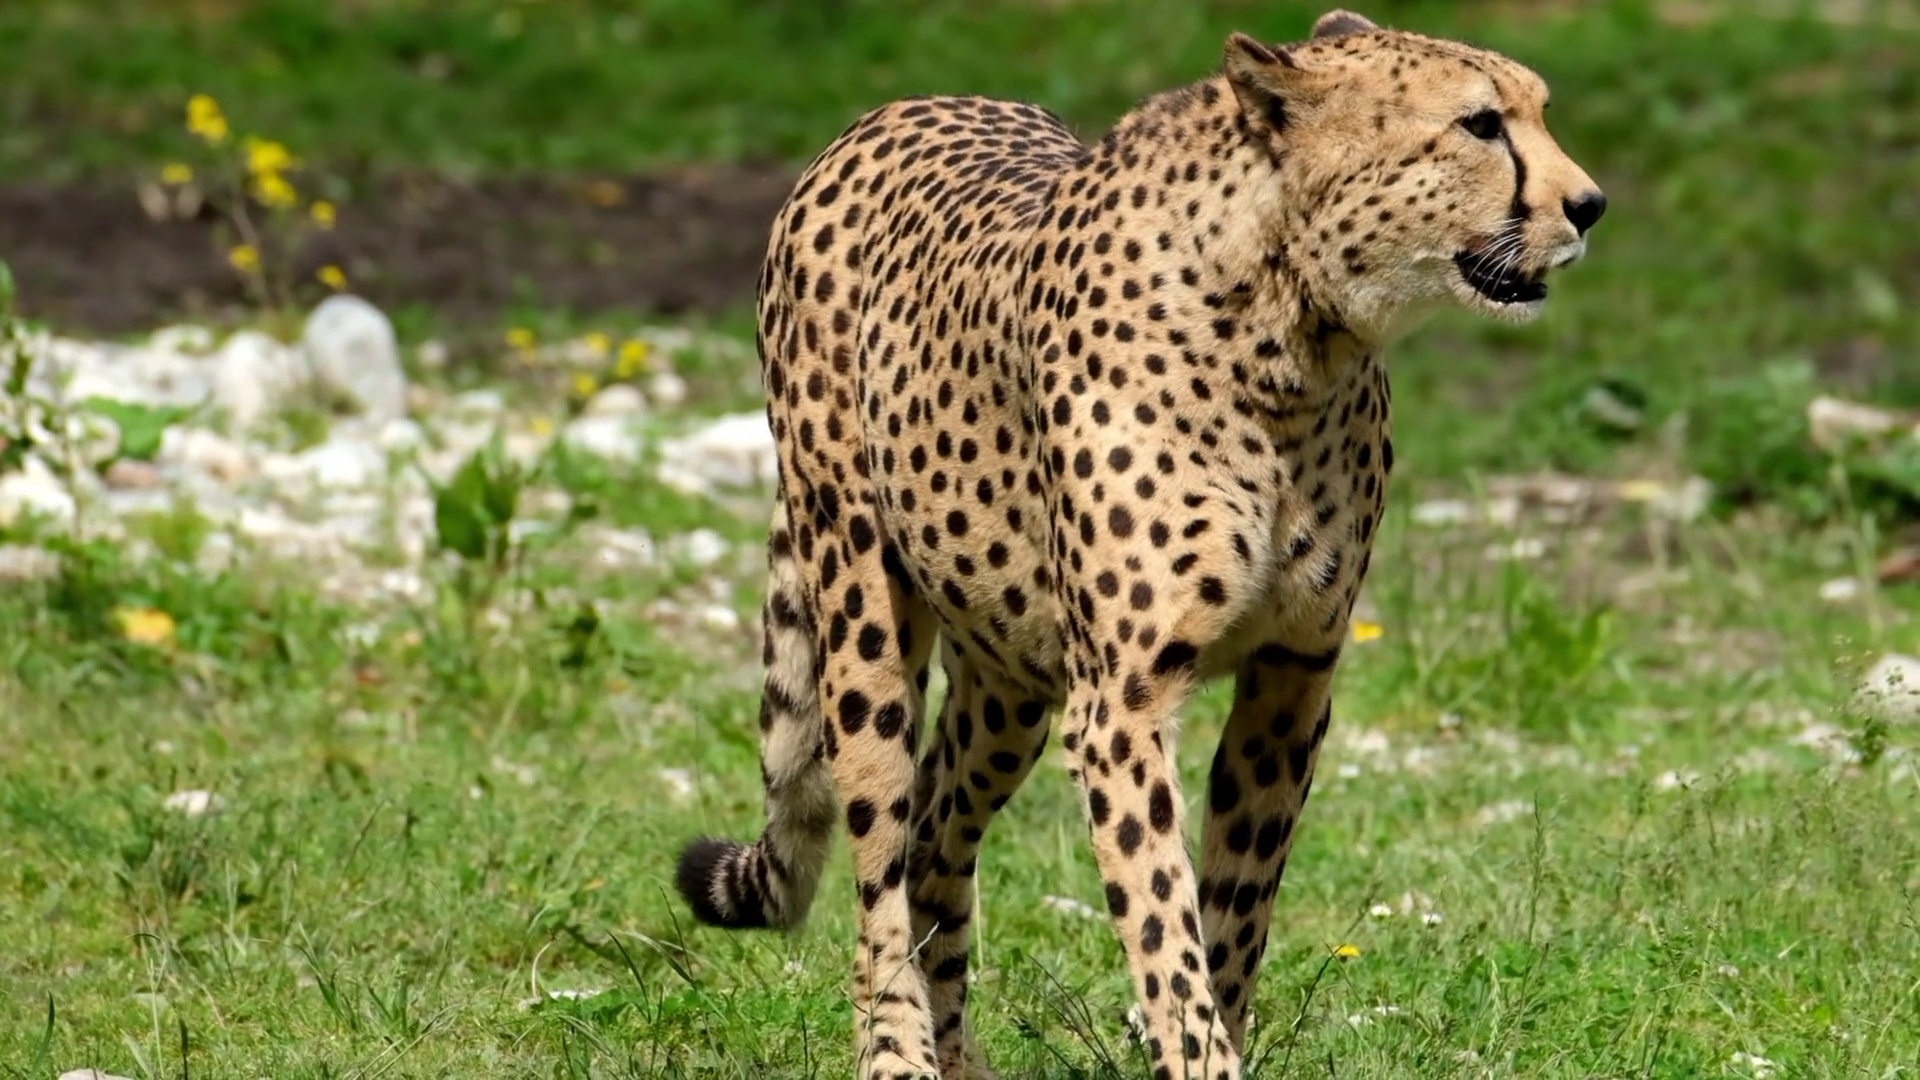Cheetah: (669, 7, 1615, 1080)
